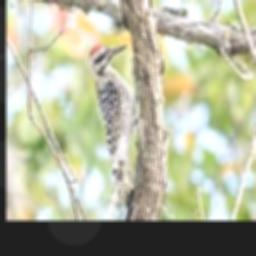Woodpecker: (88, 44, 138, 221)
